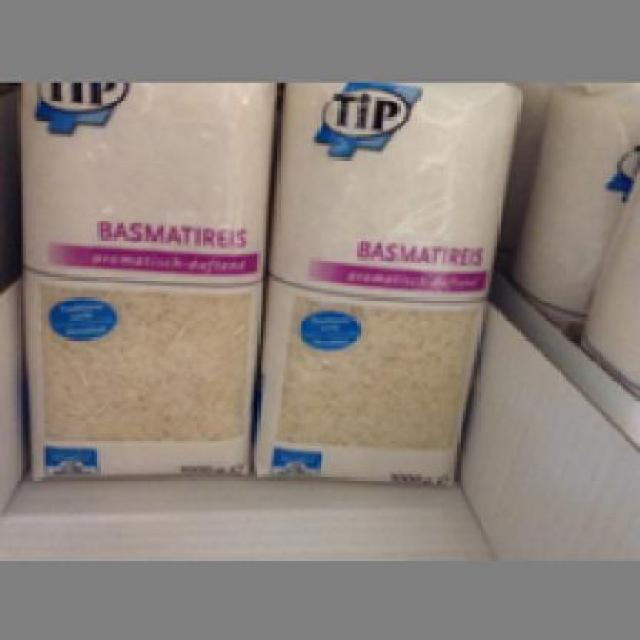Rice: (251, 80, 524, 483), (15, 82, 272, 472)
